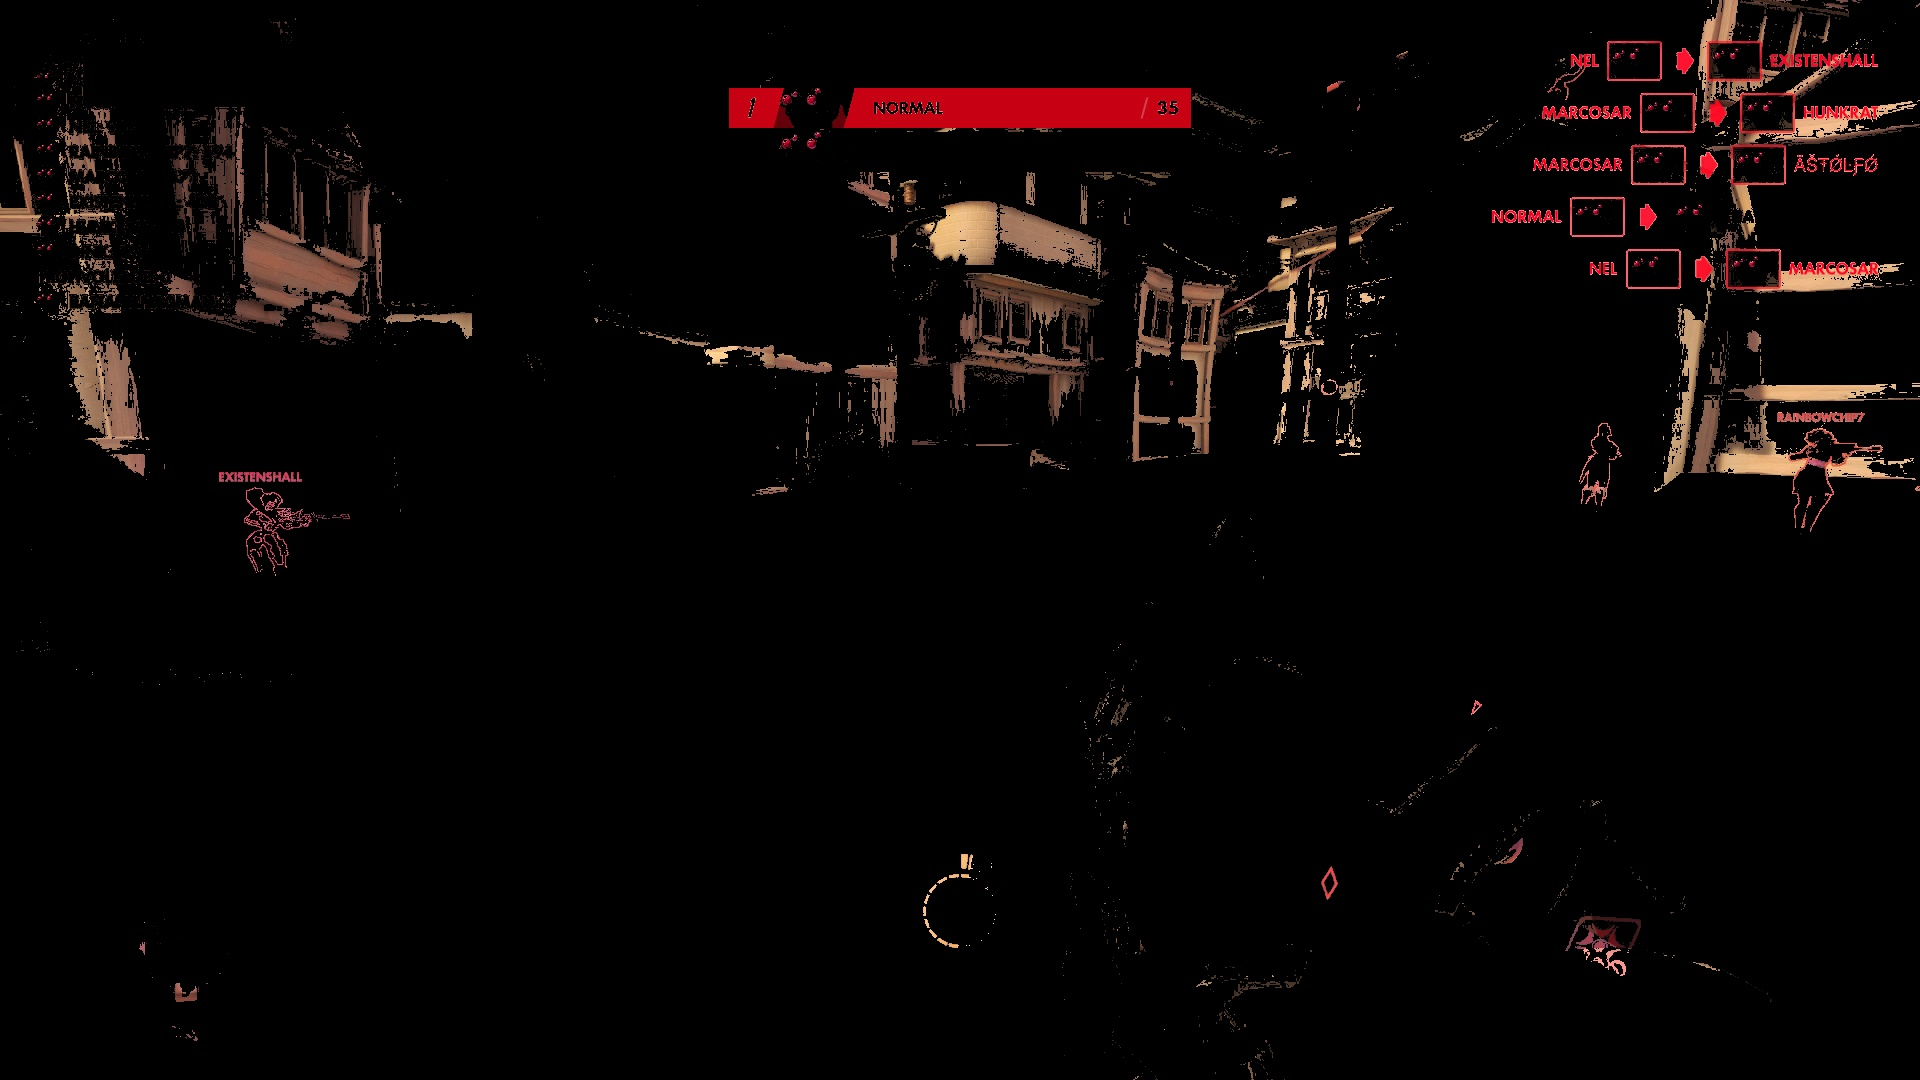widowmaker: (1784, 429, 1880, 545), (1564, 419, 1631, 525)
